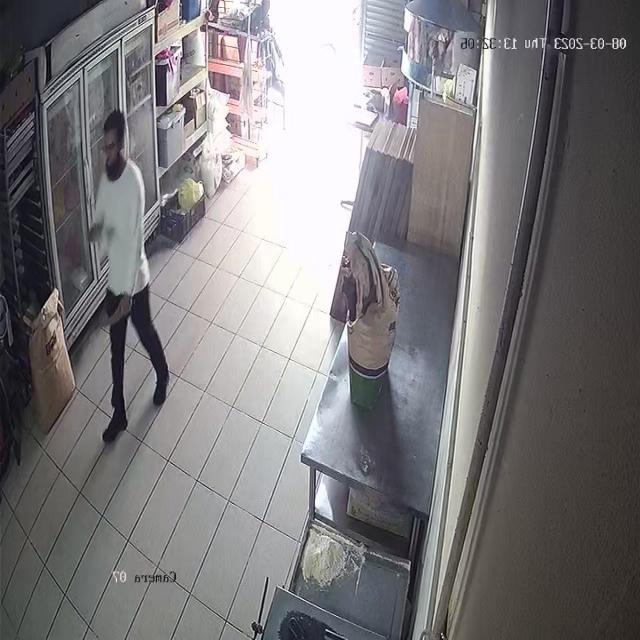Knife: (94, 295, 139, 334)
